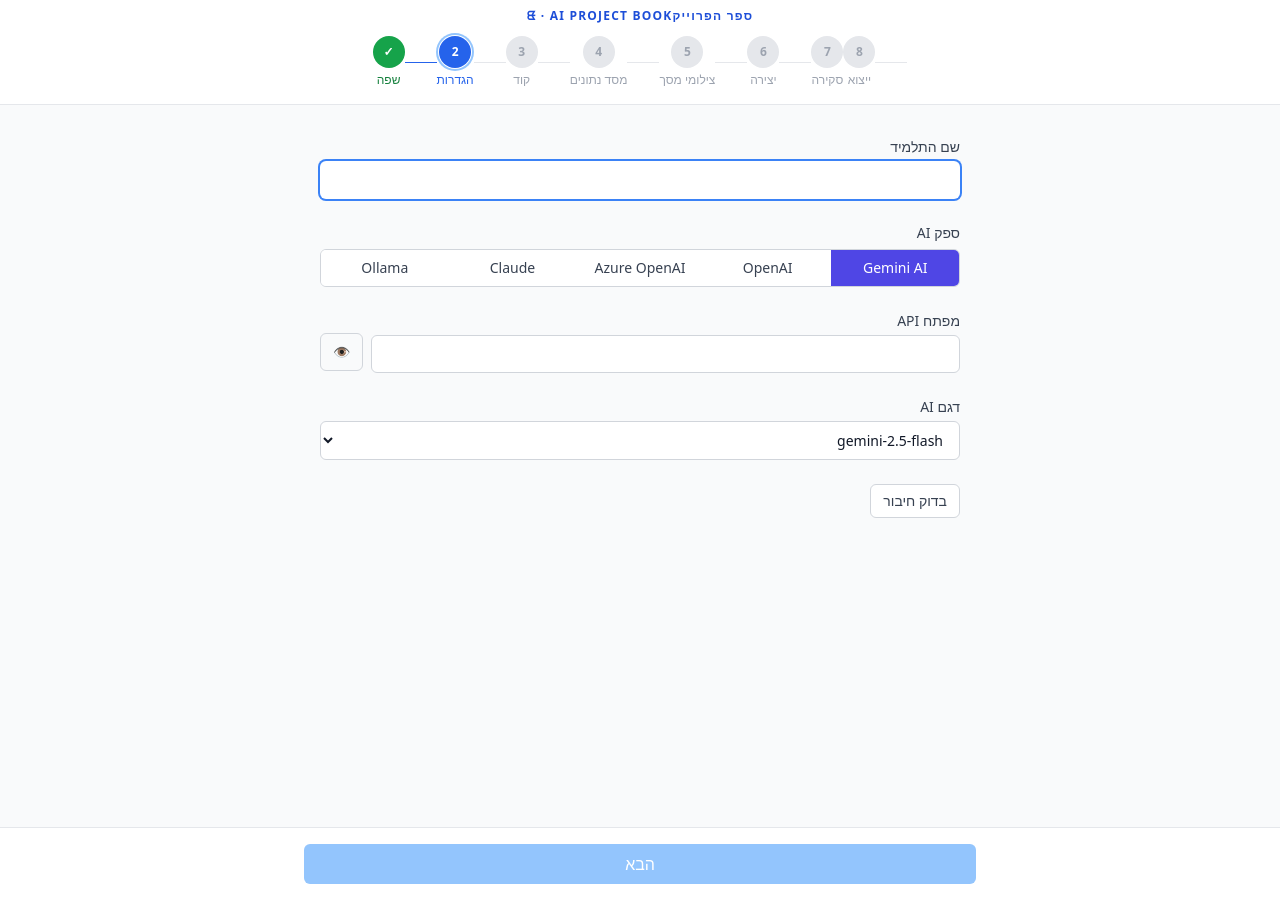
Test: SetupPage › shows validation errors when testing with empty fields
Click the button "בדוק חיבור". click: x=915, y=501
box: [870,484,960,518]
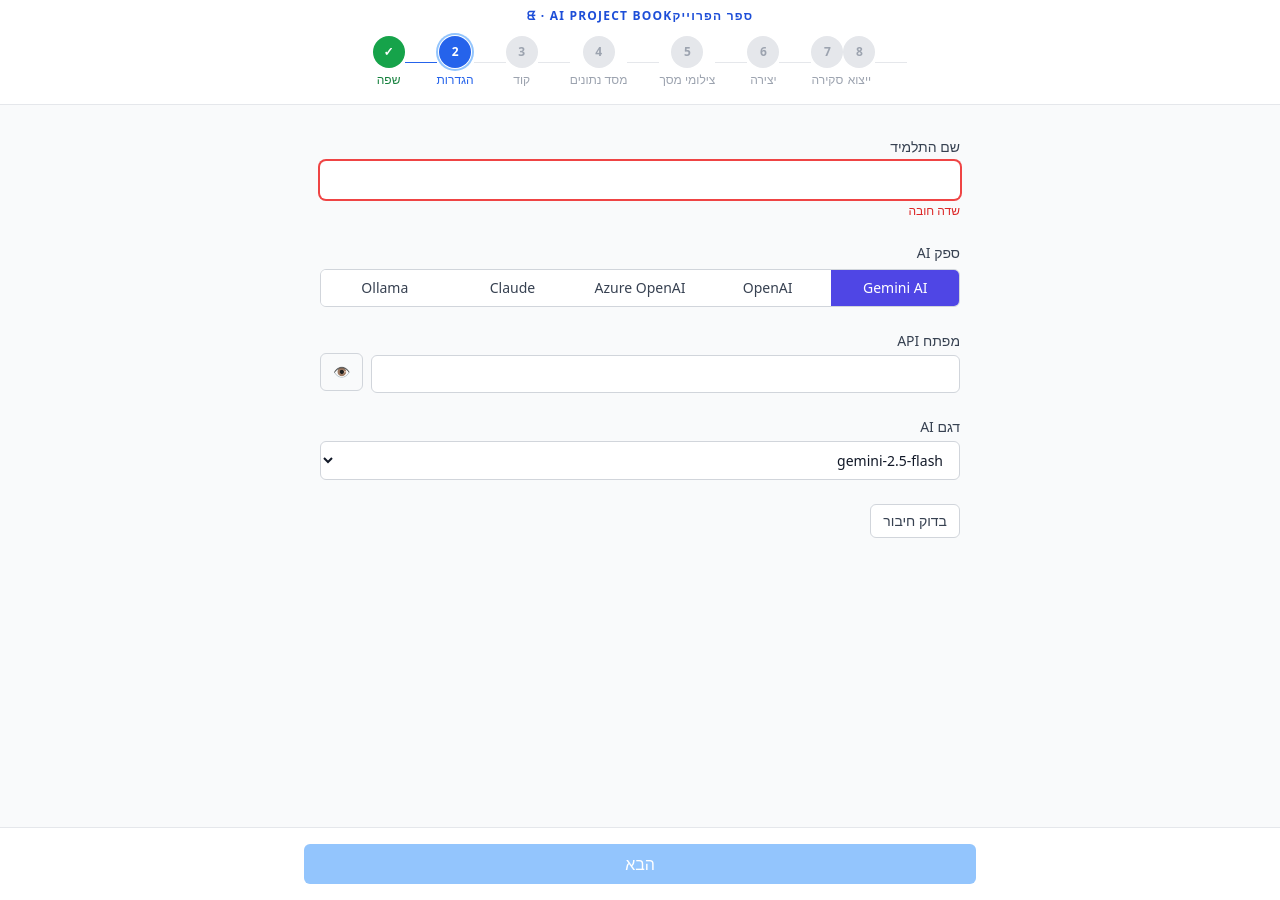
Result: the text "שדה חובה" is shown at [908,202,960,219]
